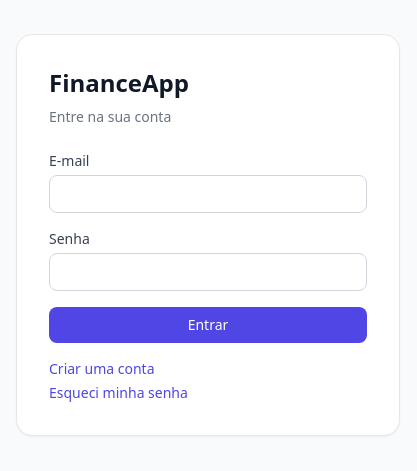
Scenario: Login page › shows error message on failed login
Type "bad@test.com" into the field labelled "E-mail" at (208, 194), box [49,175,367,213]
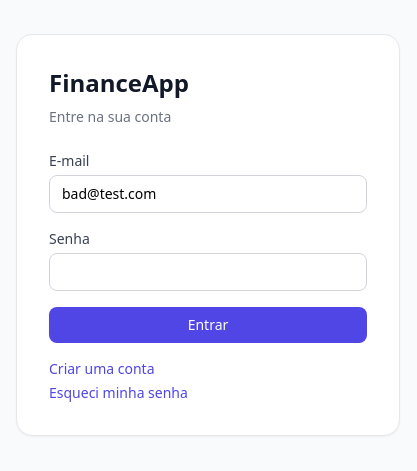
Type "wrong" into the password field labelled "Senha" at (208, 272), box [49,253,367,291]
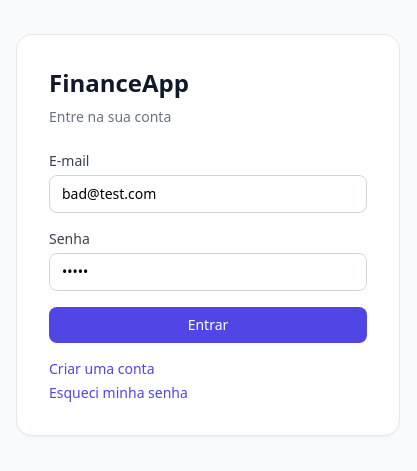
Click the button "Entrar" at (208, 325), box [49,307,367,343]
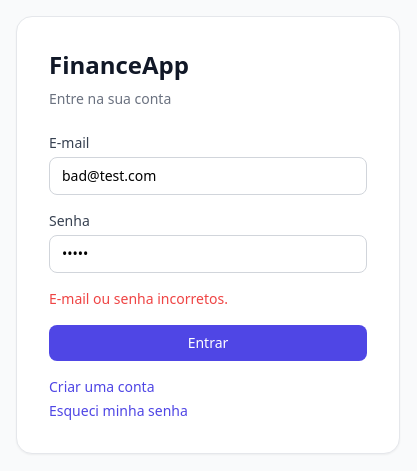
Check: the text "E-mail ou senha incorretos." is shown, box [49,289,228,308]
